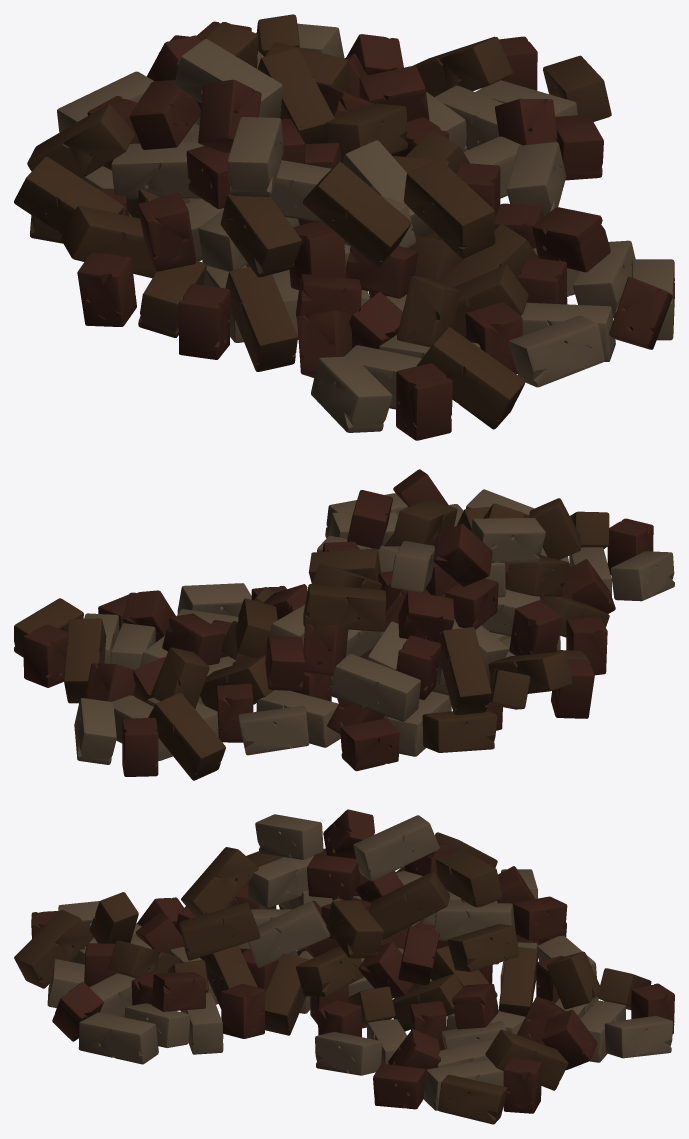
Rendered from RUBBLE 2.FBX.
3 renders of one model, top to bottom at view 1: azimuth 30°, elevation 25°; view 2: azimuth 150°, elevation 25°; view 3: azimuth 270°, elevation 25°, orthographic. The views are drawn at different scales.
Parts seen in each view (by area): view 1: Box2332, Box2312, Box2220, Box2231, Box2242, Box2335, Box2224, Box2279, Box2255, Box2275, Box2342, Box2344 (+60 smaller); view 2: Box2281, Box1496, Box2279, Box2339, Box2211, Box2202, Box2342, Box1508, Box2224, Box2343, Box2203, Box1501 (+54 smaller); view 3: Box2344, Box2249, Box2220, Box2312, Box2307, Box2294, Box2332, Box2339, Box2342, Box1502, Box1501, Box2328 (+57 smaller).
Part boxes in pixels (box(x1,y1,x2,y2)): Box2332: box(302, 162, 411, 267); Box2312: box(403, 159, 495, 258); Box2220: box(416, 327, 525, 429); Box2231: box(225, 266, 297, 371); Box2242: box(508, 315, 604, 387); Box2335: box(220, 194, 301, 277); Box2224: box(311, 356, 392, 432); Box2279: box(27, 104, 134, 178); Box2255: box(14, 156, 123, 235); Box2275: box(61, 205, 156, 278); Box2342: box(227, 117, 283, 196); Box2344: box(174, 39, 282, 117); Box2281: box(328, 653, 420, 721); Box1496: box(148, 692, 225, 780); Box2279: box(437, 627, 491, 715); Box2339: box(303, 584, 386, 631); Box2211: box(422, 710, 497, 752); Box2202: box(238, 705, 309, 755); Box2342: box(471, 518, 545, 563); Box1508: box(64, 618, 106, 703); Box2224: box(610, 551, 674, 601); Box2343: box(433, 523, 492, 586); Box2203: box(340, 718, 399, 771); Box1501: box(74, 698, 116, 764); Box2344: box(353, 815, 439, 881); Box2249: box(78, 1012, 158, 1064); Box2220: box(14, 910, 93, 988); Box2312: box(179, 902, 260, 960); Box2307: box(248, 901, 330, 967); Box2294: box(369, 871, 449, 939); Box2332: box(181, 847, 258, 917); Box2339: box(435, 849, 502, 907); Box2342: box(255, 814, 323, 859); Box1502: box(438, 1074, 507, 1124); Box1501: box(604, 1015, 673, 1058); Box2328: box(447, 924, 519, 971).
Size of the model in its own units: 34.79 by 11.16 by 43.14.
